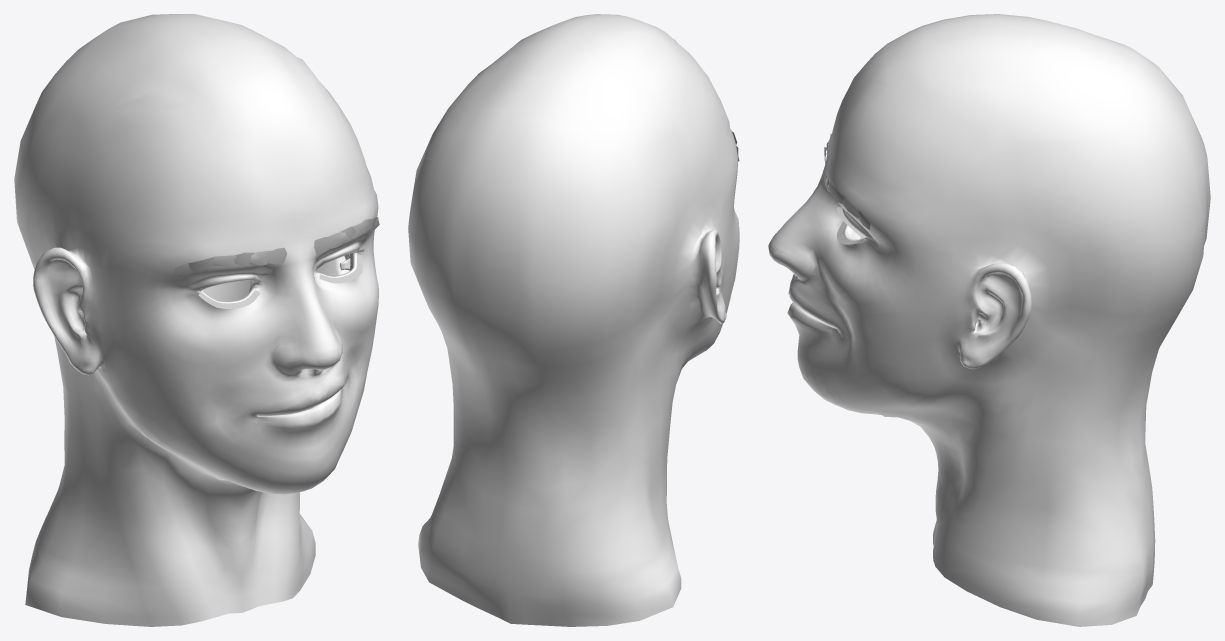
The model's file is mouthPressLeft.obj.
The picture shows the model from 3 angles, left to right: view 1: azimuth 30°, elevation 25°; view 2: azimuth 150°, elevation 25°; view 3: azimuth 270°, elevation 25°; orthographic projection. The views are drawn at different scales.
Visible parts, largest first — view 1: FaceMesh_Plane.003; view 2: FaceMesh_Plane.003; view 3: FaceMesh_Plane.003.
Part boxes in pixels (x1,y1,x2,y2): FaceMesh_Plane.003: (14, 14, 379, 626); FaceMesh_Plane.003: (408, 14, 739, 626); FaceMesh_Plane.003: (768, 14, 1210, 626).
Size of the model in its own units: 1.54 by 2.71 by 1.94.
5 materials, 1 textured.
